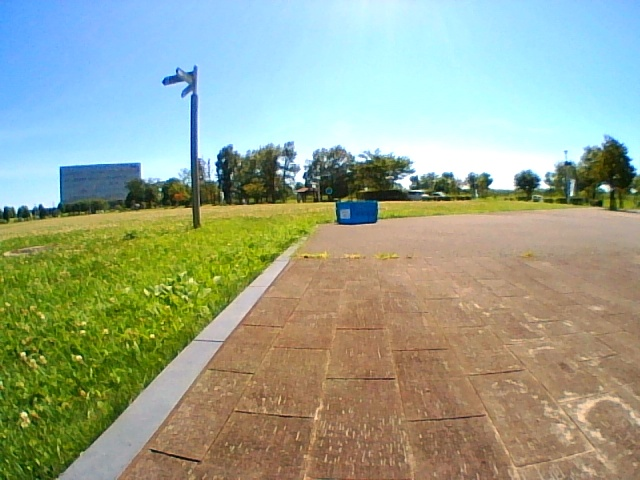blue_box: (338, 201, 377, 224)
tag: (340, 208, 349, 218)
